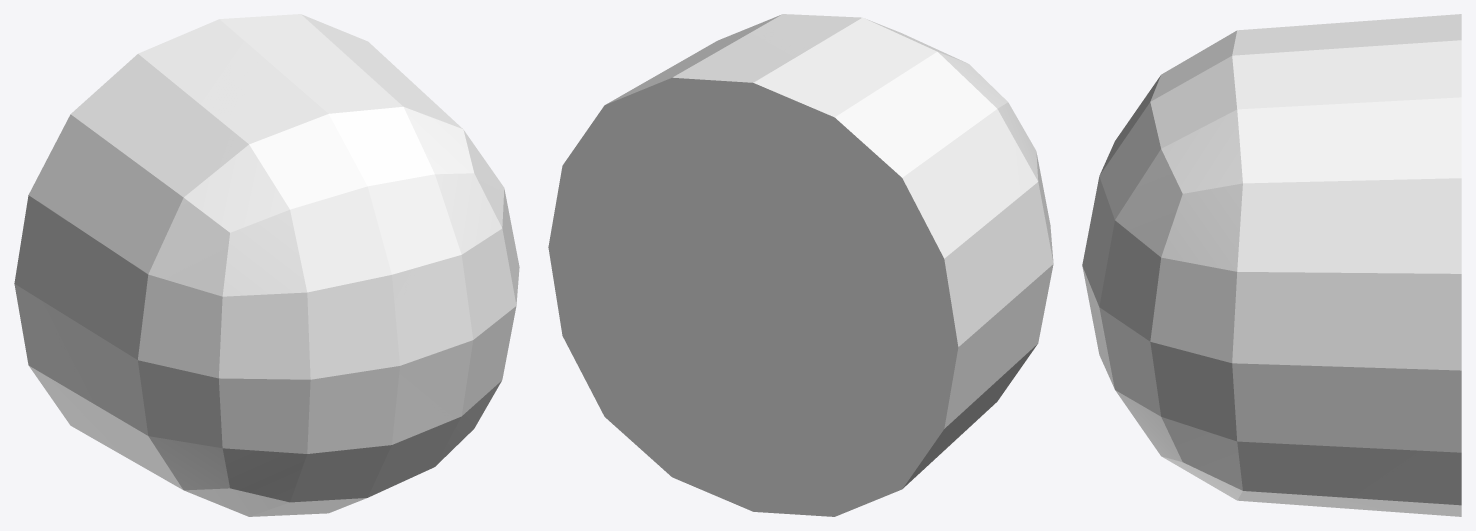
The model's file is ghostHand.obj.
The picture shows the model from 3 angles, left to right: view 1: azimuth 30°, elevation 25°; view 2: azimuth 150°, elevation 25°; view 3: azimuth 270°, elevation 25°; orthographic projection. The views are drawn at different scales.
Parts seen in each view (by area): view 1: LeftHand; view 2: LeftHand; view 3: LeftHand.
Part boxes in pixels (x1=…): LeftHand: x1=14, y1=14, x2=519, y2=516; LeftHand: x1=548, y1=14, x2=1053, y2=516; LeftHand: x1=1082, y1=14, x2=1461, y2=516.
Size of the model in its own units: 0.3071 by 0.3071 by 0.2345.
